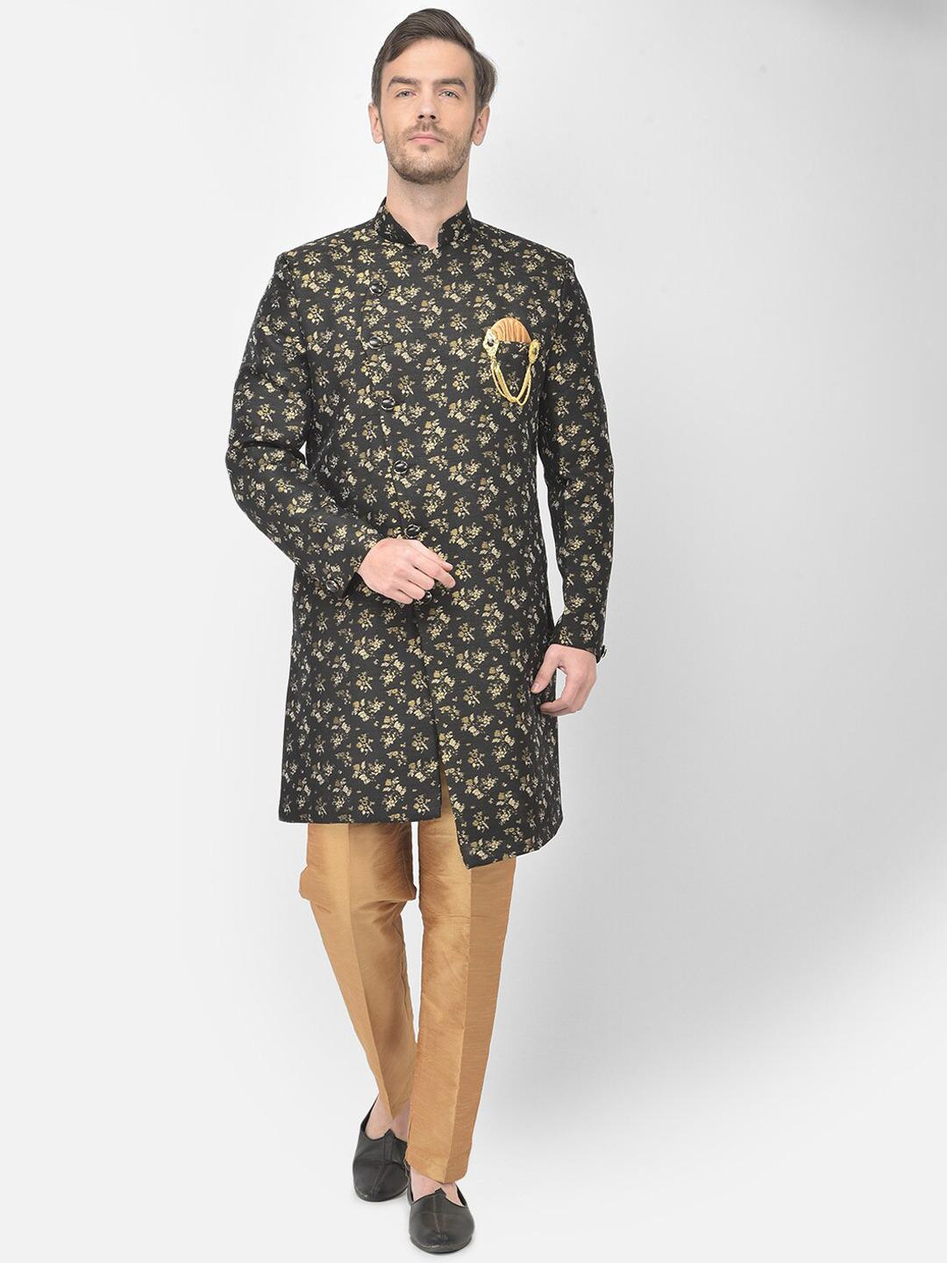Design Sherwani: (221, 195, 620, 876)
